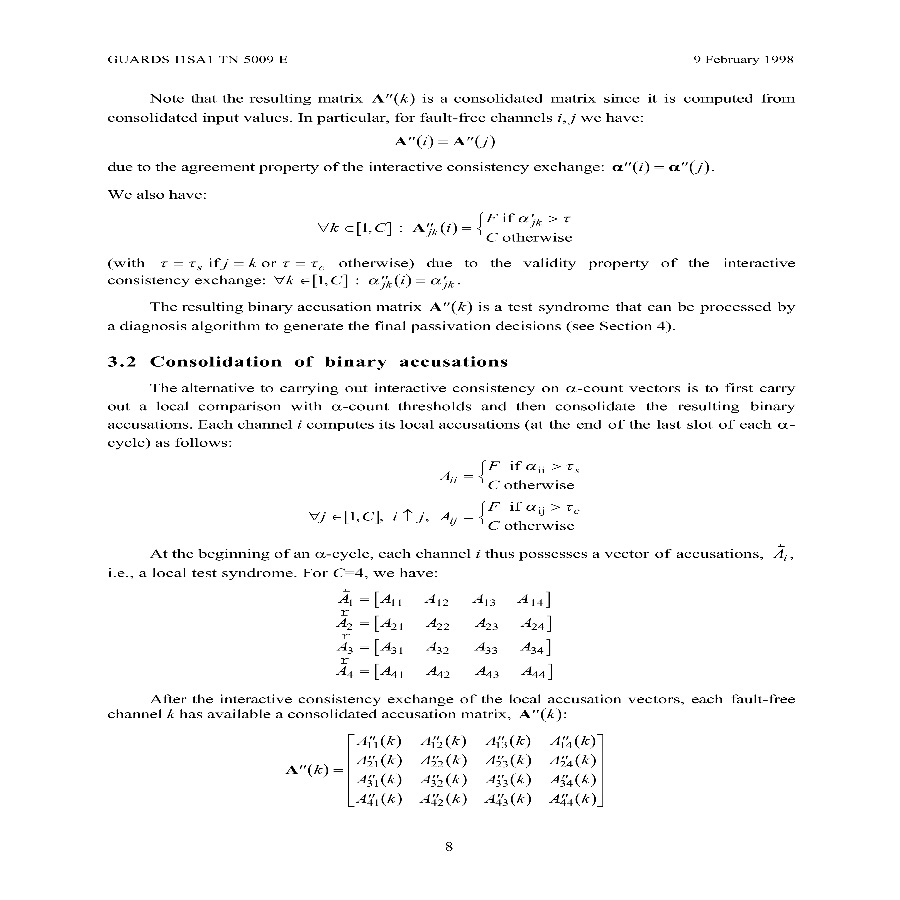eq: (285, 730, 606, 809), (311, 202, 583, 245), (305, 502, 588, 537), (436, 454, 585, 495), (337, 633, 553, 656), (336, 610, 555, 632), (336, 658, 553, 680), (336, 588, 550, 609), (391, 131, 500, 153)
